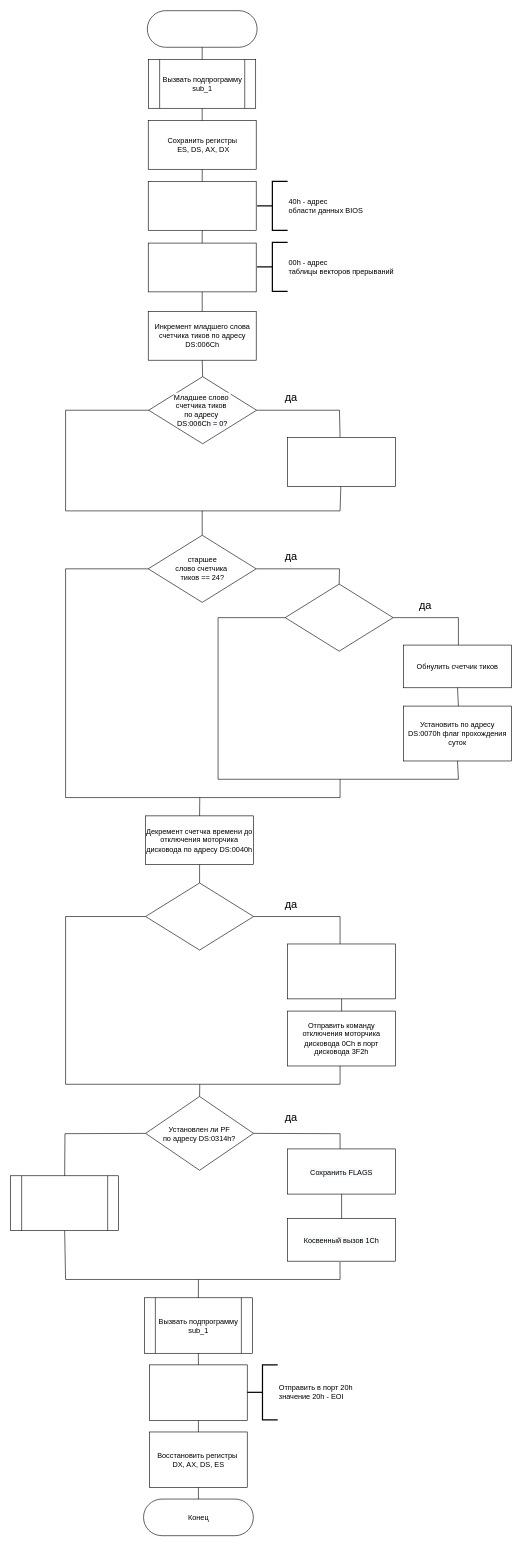
The diagram is 522 pixels wide and 1546 high, and some of its shapes have lost their labels. The shapes that lost their labels are listed below. From the top down, each one's centre as x and y in pixels, then its label:
At point 202,28: "Начало".
At point 202,205: "Загрузить в регистр DS 40h".
At point 202,267: "Загрузить в регистр ES 00h".
At point 341,461: "Инкремент старшего слова счетчика тиков".
At point 339,617: "младшее слово счетчика тиков = B0h".
At point 199,916: "Значение по адресу DS:0040h = 0?".
At point 341,971: "Сбросить флаг работы моторчика дисковода".
At point 64,1203: "Вызвать прерывание 1Ch".
At point 198,1392: "Сбросить контроллер прерываний".
